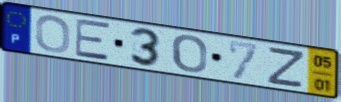3: (127, 26, 163, 69)
7: (228, 39, 259, 82)
E: (74, 18, 112, 62)
O: (170, 34, 209, 74), (34, 14, 72, 54)
Z: (265, 47, 308, 91)
